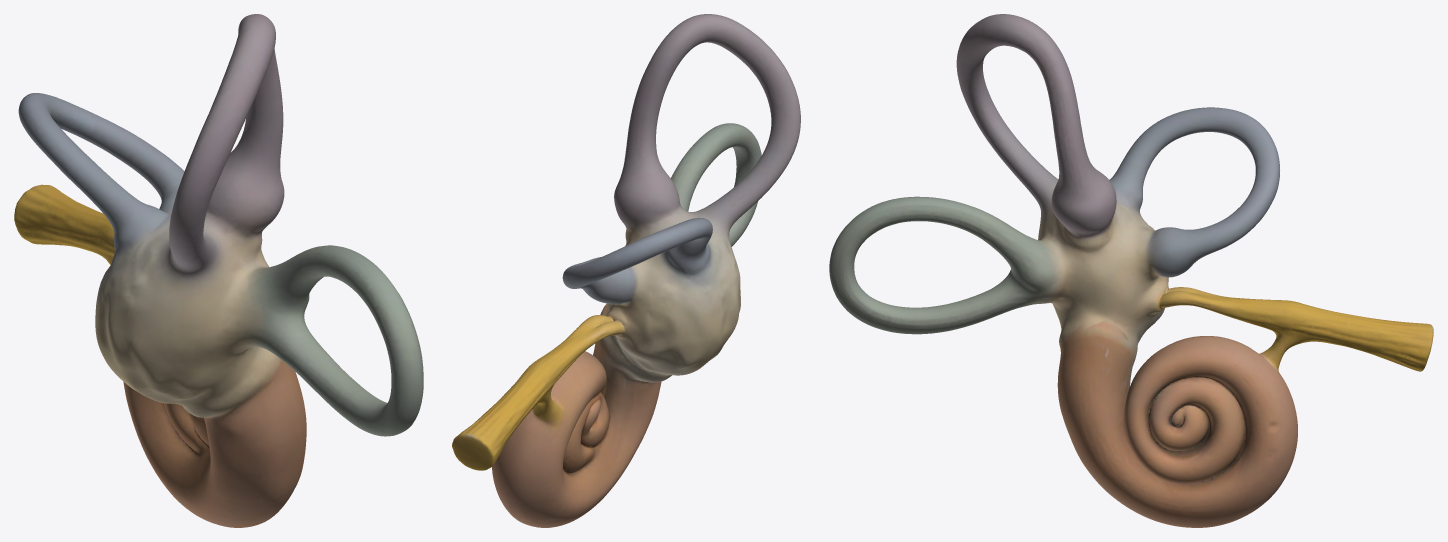
The model's file is inner-ear.glb.
The picture shows the model from 3 angles, left to right: view 1: azimuth 30°, elevation 25°; view 2: azimuth 150°, elevation 25°; view 3: azimuth 270°, elevation 25°; orthographic projection. The views are drawn at different scales.
Parts seen in each view (by area): view 1: tripo_node_7c225d5a-0068-4cb1-9e26-dc6591848bf5; view 2: tripo_node_7c225d5a-0068-4cb1-9e26-dc6591848bf5; view 3: tripo_node_7c225d5a-0068-4cb1-9e26-dc6591848bf5.
Boxes of the visible parts, x1=… form: tripo_node_7c225d5a-0068-4cb1-9e26-dc6591848bf5: x1=14, y1=14, x2=423, y2=527; tripo_node_7c225d5a-0068-4cb1-9e26-dc6591848bf5: x1=452, y1=14, x2=800, y2=527; tripo_node_7c225d5a-0068-4cb1-9e26-dc6591848bf5: x1=829, y1=14, x2=1433, y2=527.
Bounding box in the file's own units: 0.3533 × 0.8714 × 1.
Materials: 1 (1 with a texture image).
